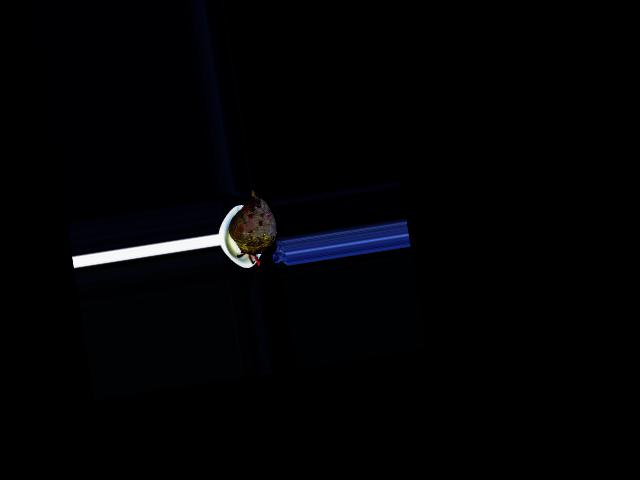beet: (223, 188, 280, 269)
